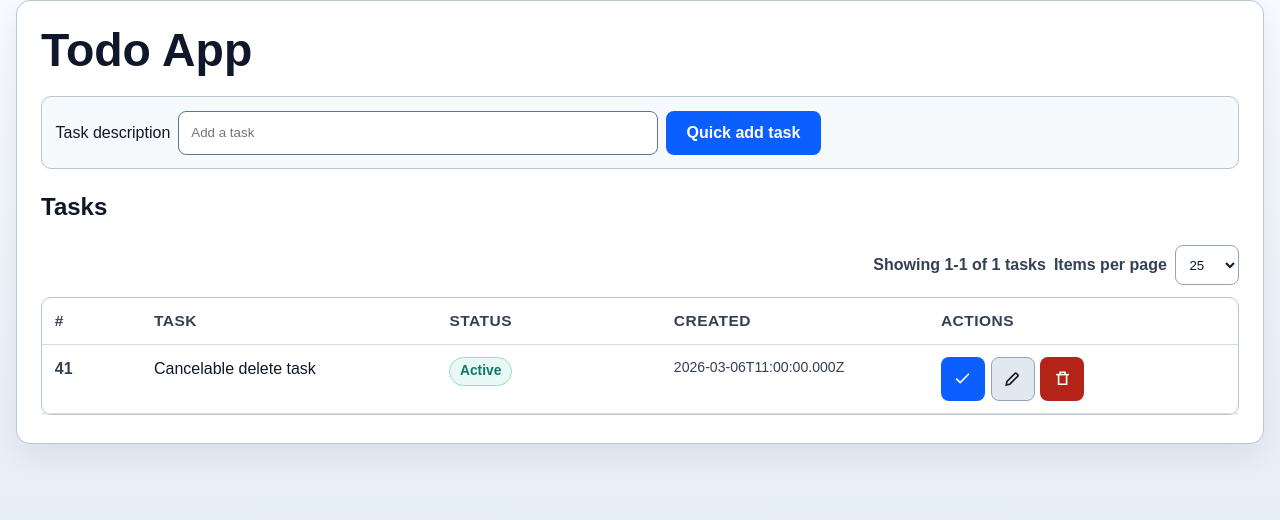
Scenario: Task list and quick-add flows › supports delete confirm then cancel without removing the task
Expected: the text "Cancelable delete task" is shown, [154,360,316,377]
Click the button named "Delete task \"Cancelable delete task\"": (1062,379) [1040,357,1084,401]
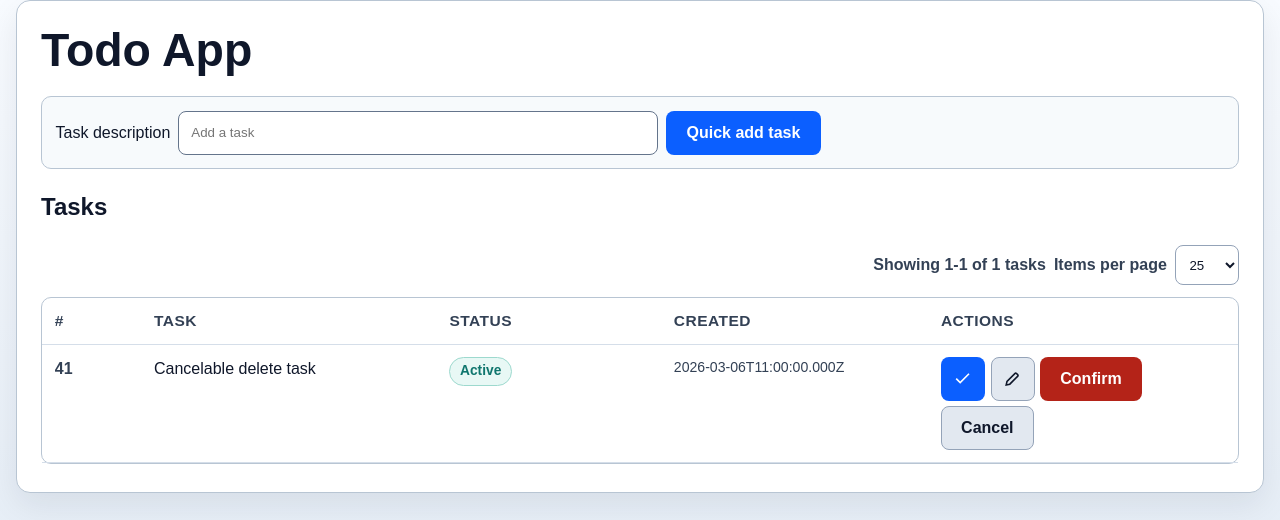
Expected: the button named "Confirm delete task \"Cancelable delete task\"" is shown, [1040,357,1142,401]
Expected: the button named "Cancel delete task \"Cancelable delete task\"" is shown
Click the button named "Cancel delete task \"Cancelable delete task\"": (987,428) [941,406,1034,450]
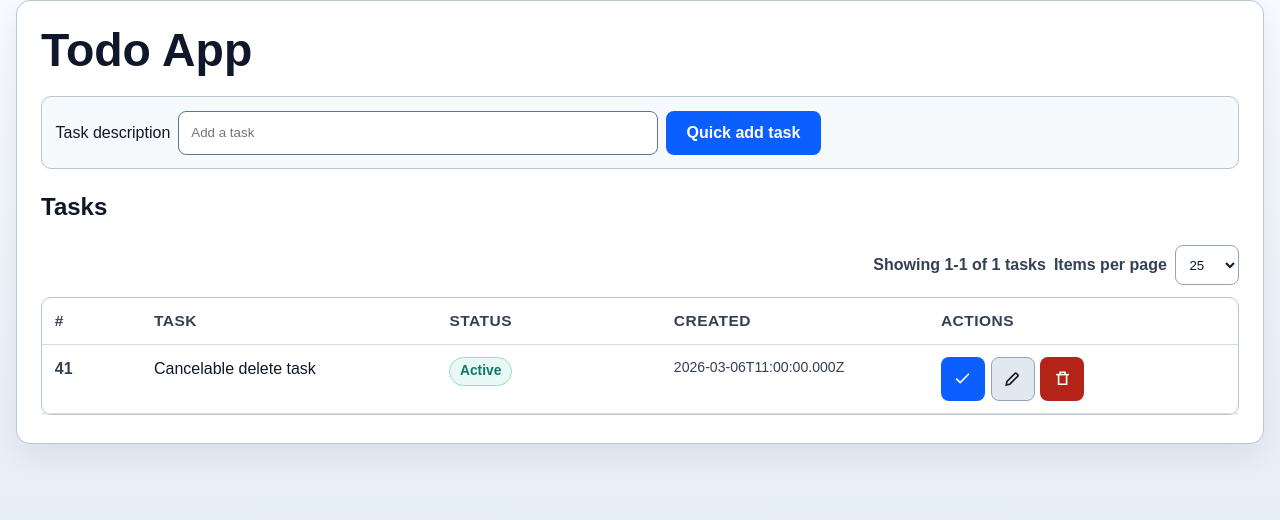
Expected: the text "Cancelable delete task" is shown, [154,360,316,377]
Expected: the button named "Delete task \"Cancelable delete task\"" is shown, [1040,357,1084,401]
